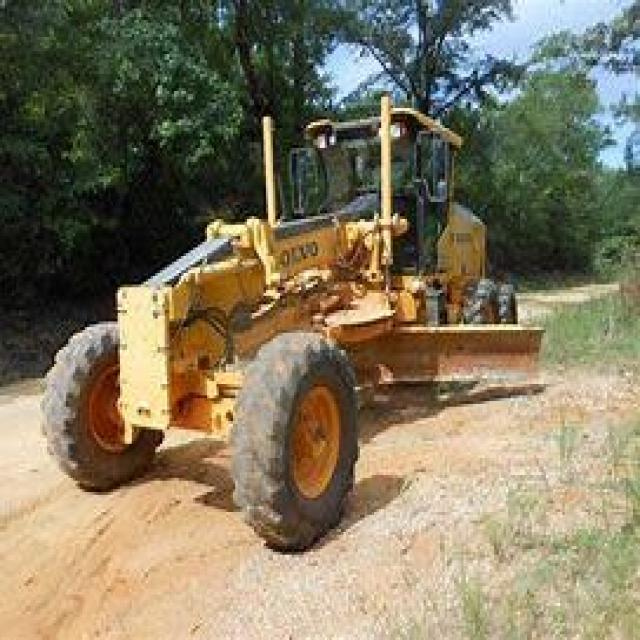Grader: (17, 80, 590, 543)
